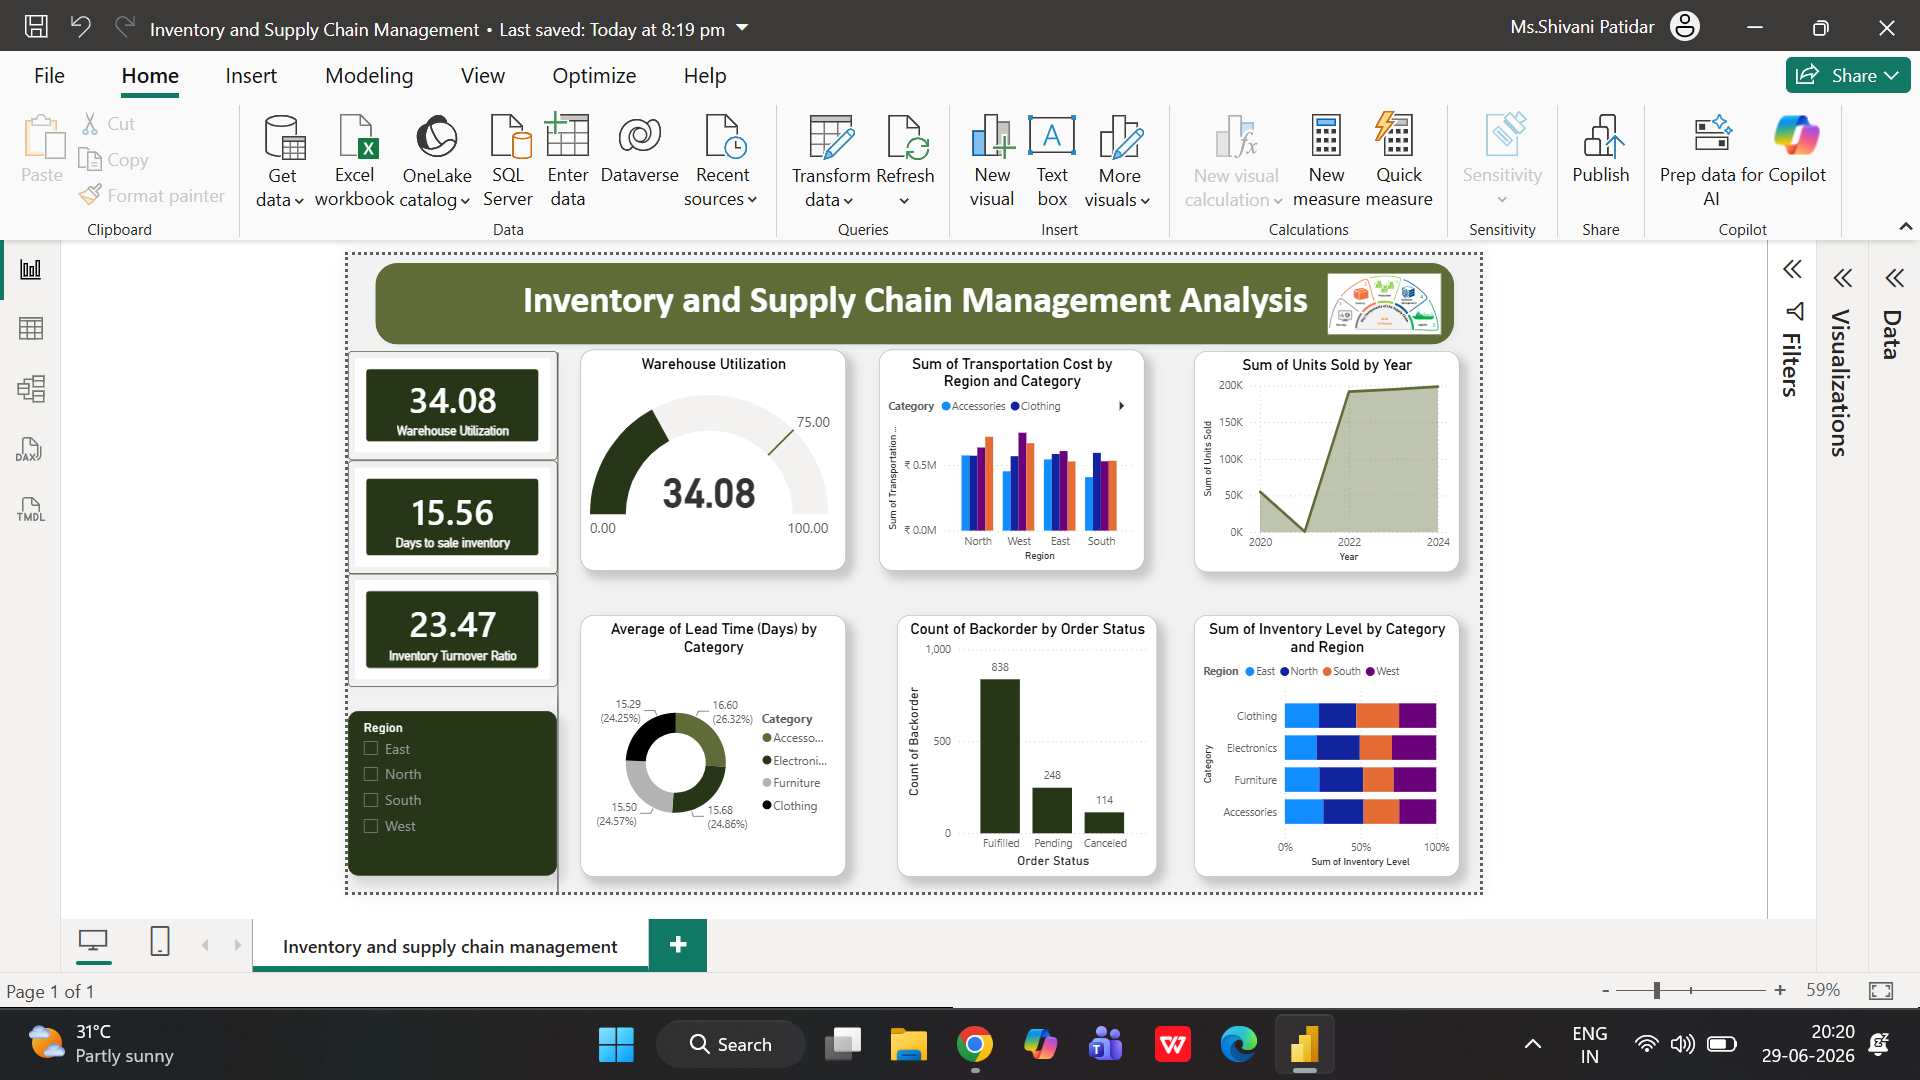

The dashboard page shown, as its layout file describes it:
{"tool":"powerbi","page":{"name":"Inventory and supply chain management ","canvas":[1280,720],"ordinal":0},"visuals":[{"type":"shape","box":[21.7,0,1236.7,110],"z":0},{"type":"textbox","box":[165,18.3,953.3,63.3],"z":1000},{"type":"image","box":[1106.7,20,128.3,70],"z":2000},{"type":"shape","box":[230,110,13.3,610],"z":3000},{"type":"cardVisual","fields":{"Data":["Inventory_SupplyChain_Dataset.Warehouse Utilization"]},"box":[0,108.3,236.7,123.3],"z":4000},{"type":"cardVisual","fields":{"Data":["Inventory_SupplyChain_Dataset.Days to sale inventory"]},"box":[0,231.7,236.7,128.3],"z":5000},{"type":"cardVisual","fields":{"Data":["Inventory_SupplyChain_Dataset.Inventory Turnover Ratio"]},"box":[0,360,236.7,128.3],"z":6000},{"type":"slicer","fields":{"Values":["Inventory_SupplyChain_Dataset.Region"]},"box":[0,516,236,186],"z":7000},{"type":"gauge","fields":{"Y":["Inventory_SupplyChain_Dataset.Warehouse Utilization"]},"box":[262,106,300,250],"z":7002},{"type":"clusteredColumnChart","fields":{"Y":["Sum(Inventory_SupplyChain_Dataset.Transportation Cost)"],"Category":["Inventory_SupplyChain_Dataset.Region"],"Series":["Inventory_SupplyChain_Dataset.Category"]},"box":[600,106,300,250],"z":7003},{"type":"lineChart","fields":{"Y":["Sum(Inventory_SupplyChain_Dataset.Units Sold)"],"Category":["Inventory_SupplyChain_Dataset.Date.Variation.Date Hierarchy.Year"]},"box":[956,108,300,250],"z":7004},{"type":"donutChart","fields":{"Y":["Avg(Inventory_SupplyChain_Dataset.Lead Time (Days))"],"Category":["Inventory_SupplyChain_Dataset.Category"]},"box":[262,406,300,296],"z":7005},{"type":"columnChart","fields":{"Y":["CountNonNull(Inventory_SupplyChain_Dataset.Backorder)"],"Category":["Inventory_SupplyChain_Dataset.Order Status"]},"box":[620,406,294,296],"z":7006},{"type":"hundredPercentStackedBarChart","fields":{"Y":["Sum(Inventory_SupplyChain_Dataset.Inventory Level)"],"Category":["Inventory_SupplyChain_Dataset.Category"],"Series":["Inventory_SupplyChain_Dataset.Region"]},"box":[956,406,300,296],"z":7007}]}

Visuals, with their boxes on the page's 1280x720 design canvas (x1, y1, x2, y2). These are canvas units, not pixel positions in the 1920x1080 screenshot, which may show the page scaled, cropped or inside an application window:
shape: x1=22 y1=0 x2=1258 y2=110
textbox: x1=165 y1=18 x2=1118 y2=82
image: x1=1107 y1=20 x2=1235 y2=90
shape: x1=230 y1=110 x2=243 y2=720
cardVisual - Inventory_SupplyChain_Dataset.Warehouse Utilization: x1=0 y1=108 x2=237 y2=232
cardVisual - Inventory_SupplyChain_Dataset.Days to sale inventory: x1=0 y1=232 x2=237 y2=360
cardVisual - Inventory_SupplyChain_Dataset.Inventory Turnover Ratio: x1=0 y1=360 x2=237 y2=488
slicer - Inventory_SupplyChain_Dataset.Region: x1=0 y1=516 x2=236 y2=702
gauge - Inventory_SupplyChain_Dataset.Warehouse Utilization: x1=262 y1=106 x2=562 y2=356
clusteredColumnChart - Sum(Inventory_SupplyChain_Dataset.Transportation Cost) x Inventory_SupplyChain_Dataset.Region: x1=600 y1=106 x2=900 y2=356
lineChart - Sum(Inventory_SupplyChain_Dataset.Units Sold) x Inventory_SupplyChain_Dataset.Date.Variation.Date Hierarchy.Year: x1=956 y1=108 x2=1256 y2=358
donutChart - Avg(Inventory_SupplyChain_Dataset.Lead Time (Days)) x Inventory_SupplyChain_Dataset.Category: x1=262 y1=406 x2=562 y2=702
columnChart - CountNonNull(Inventory_SupplyChain_Dataset.Backorder) x Inventory_SupplyChain_Dataset.Order Status: x1=620 y1=406 x2=914 y2=702
hundredPercentStackedBarChart - Sum(Inventory_SupplyChain_Dataset.Inventory Level) x Inventory_SupplyChain_Dataset.Category: x1=956 y1=406 x2=1256 y2=702
